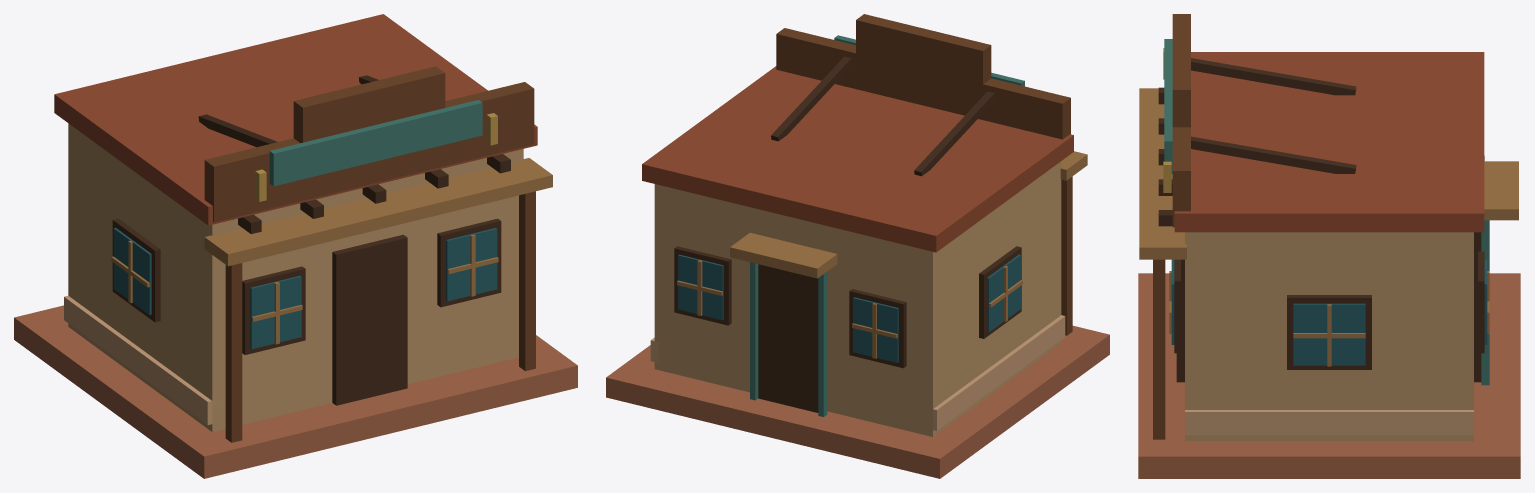
The model's file is Desert_Saloon_Standard.glb.
3 renders of one model, left to right at view 1: azimuth 30°, elevation 25°; view 2: azimuth 150°, elevation 25°; view 3: azimuth 270°, elevation 25°, orthographic. The views are drawn at different scales.
Parts seen in each view (by area): view 1: Desert_Saloon_Standard; view 2: Desert_Saloon_Standard; view 3: Desert_Saloon_Standard.
Boxes of the visible parts, x1,y1,x2,y2 form: Desert_Saloon_Standard: [14, 14, 577, 478]; Desert_Saloon_Standard: [606, 14, 1109, 478]; Desert_Saloon_Standard: [1138, 14, 1520, 478].
Size of the model in its own units: 4.2 by 3.55 by 3.7.
